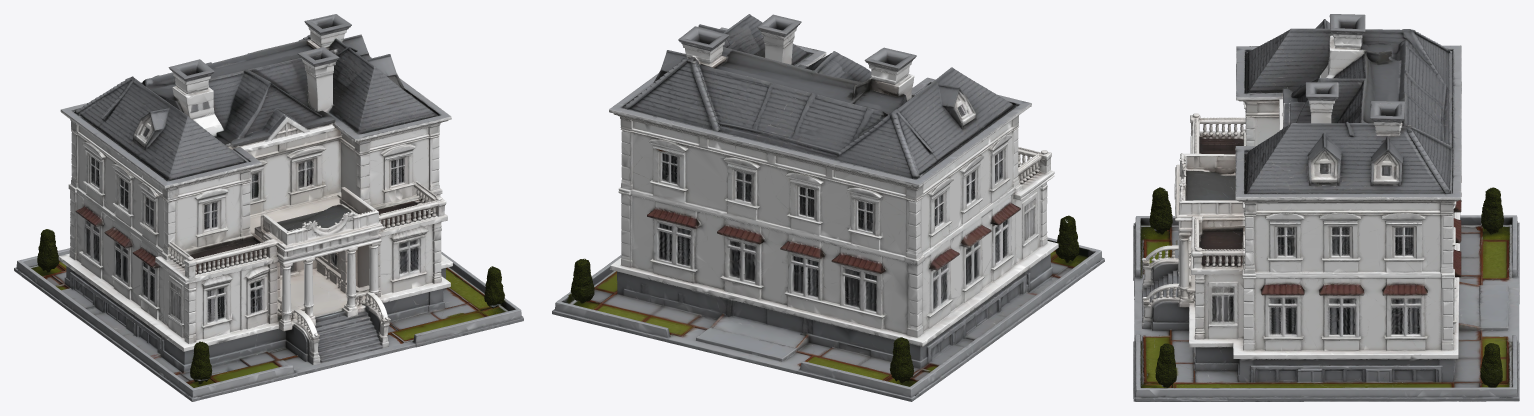
File: mansion.glb
The picture shows the model from 3 angles, left to right: view 1: azimuth 30°, elevation 25°; view 2: azimuth 150°, elevation 25°; view 3: azimuth 270°, elevation 25°; orthographic projection. The views are drawn at different scales.
Bounding box in the file's own units: 1.9 × 1.3 × 1.77.
Materials: 1 (1 with a texture image).
